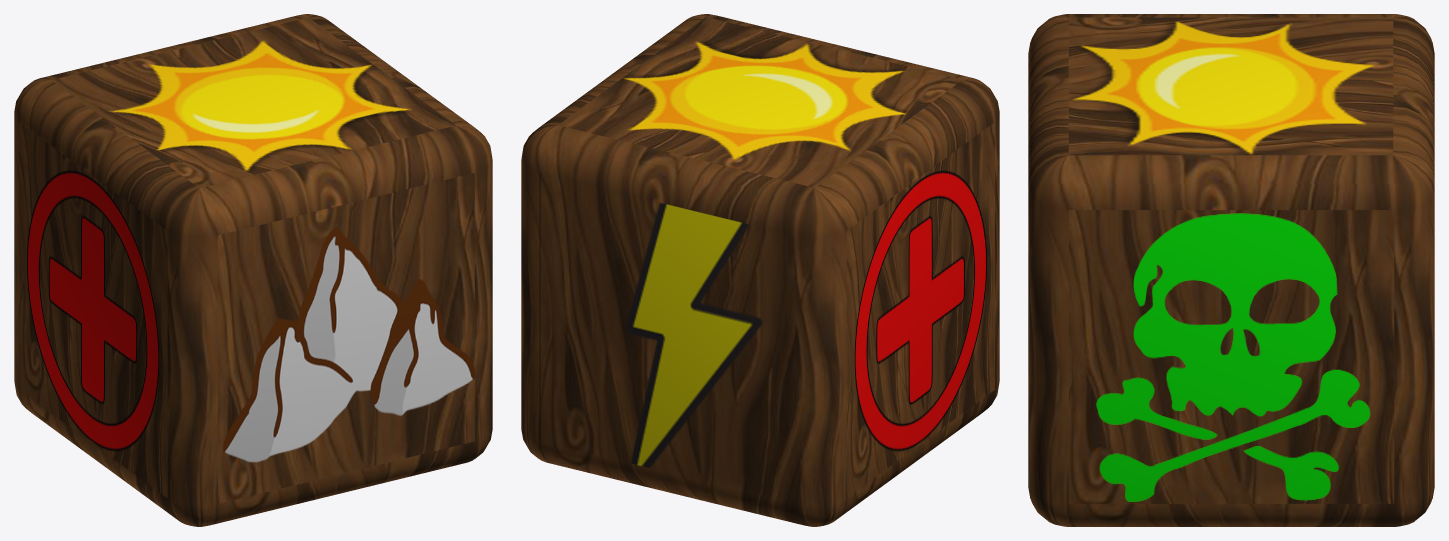
The model's file is MagicCube.fbx.
3 renders of one model, left to right at view 1: azimuth 30°, elevation 25°; view 2: azimuth 150°, elevation 25°; view 3: azimuth 270°, elevation 25°, orthographic. The views are drawn at different scales.
Parts seen in each view (by area): view 1: MagicCube; view 2: MagicCube; view 3: MagicCube.
Part boxes in pixels (x1=…): MagicCube: x1=14, y1=14, x2=492, y2=526; MagicCube: x1=521, y1=14, x2=999, y2=526; MagicCube: x1=1028, y1=14, x2=1434, y2=526.
Size of the model in its own units: 100 by 100 by 100.
